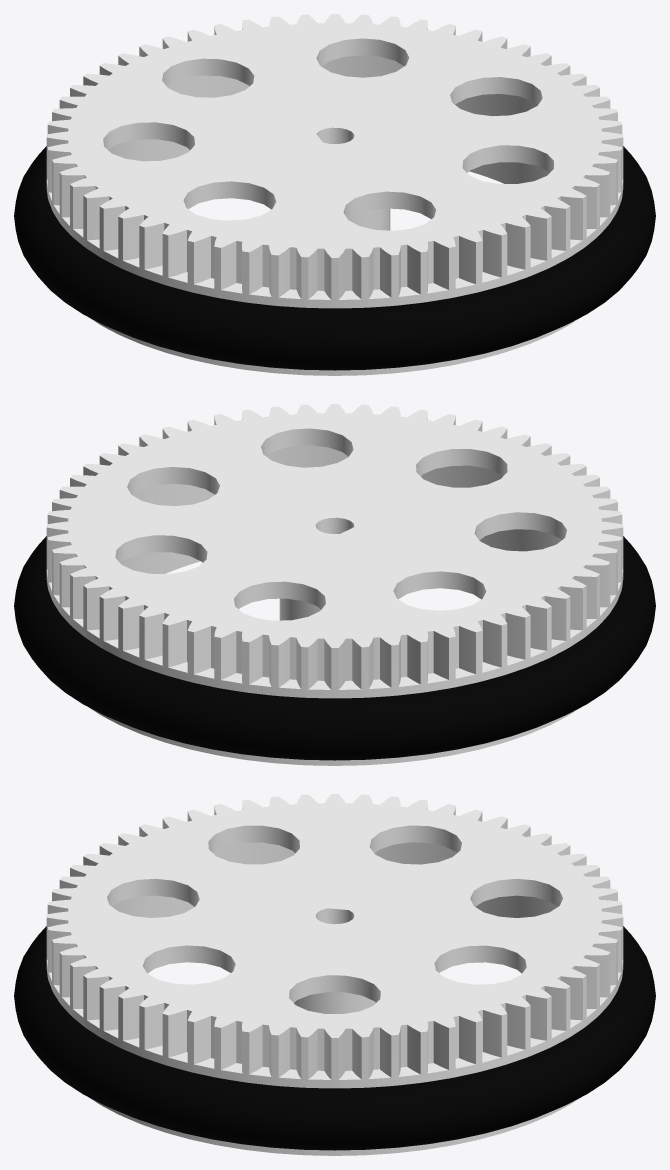
Rendered from wheel.obj.
3 renders of one model, top to bottom at view 1: azimuth 30°, elevation 25°; view 2: azimuth 150°, elevation 25°; view 3: azimuth 270°, elevation 25°, orthographic.
Visible parts, largest first — view 1: wheel_LT, O-ring_LT; view 2: wheel_LT, O-ring_LT; view 3: wheel_LT, O-ring_LT.
Part boxes in pixels (left/top/right/bottom): wheel_LT: left=46, top=14, right=623, bottom=375; O-ring_LT: left=14, top=146, right=655, bottom=370; wheel_LT: left=46, top=404, right=623, bottom=765; O-ring_LT: left=14, top=536, right=655, bottom=760; wheel_LT: left=46, top=794, right=623, bottom=1155; O-ring_LT: left=14, top=926, right=655, bottom=1150.
Bounding box in the file's own units: 0.0345 × 0.007 × 0.0345.
